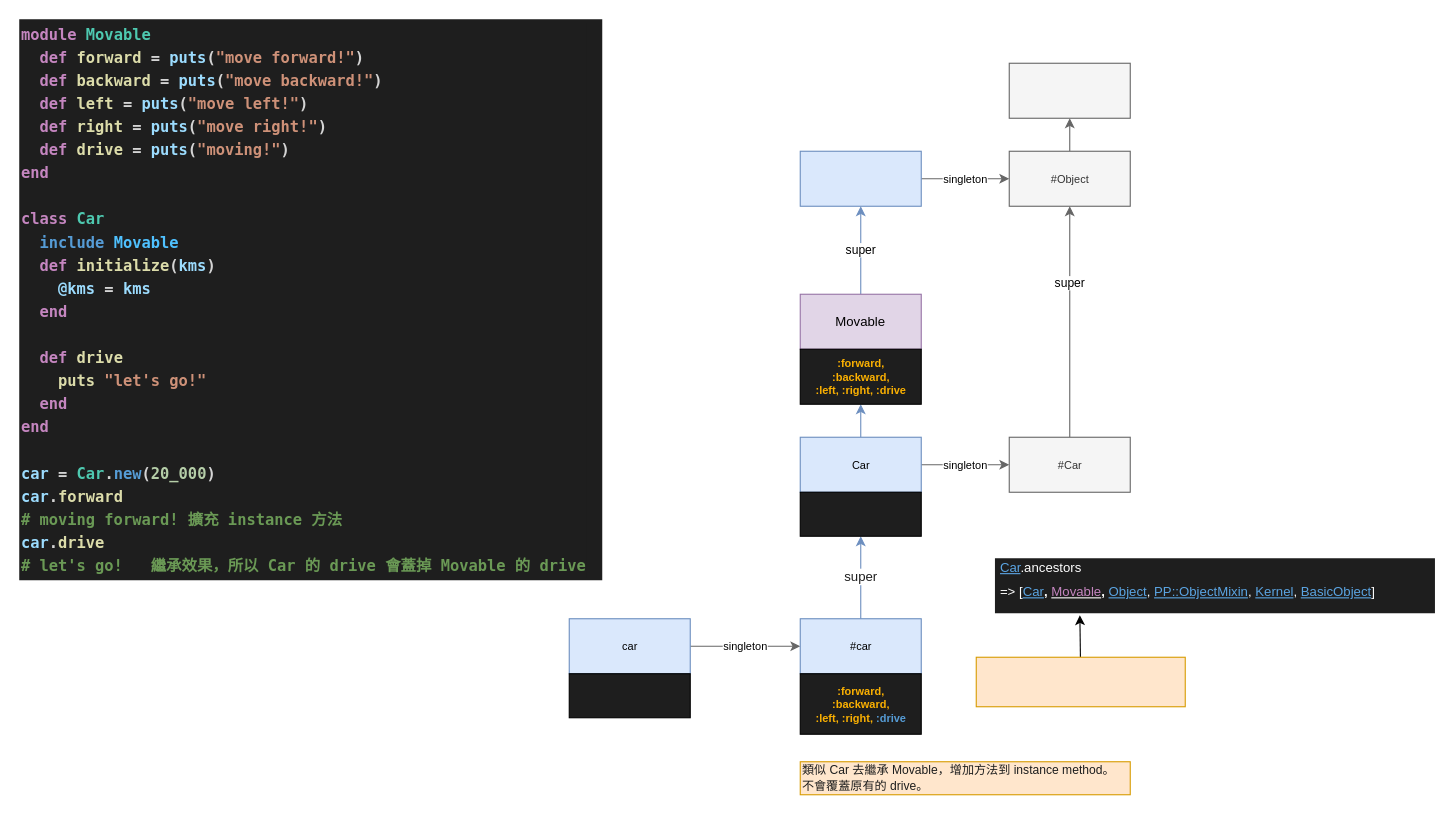
Image size: 1453x814. Some labels were removed from this diagram. The centre of each missing label's shape, as x and y in pixels:
":drive" goes at point (860, 513).
"@kms" goes at point (629, 695).
"Class" goes at point (1069, 90).
"Object" goes at point (860, 178).
"可以看到 Movable 被放在上面" goes at point (1080, 681).
